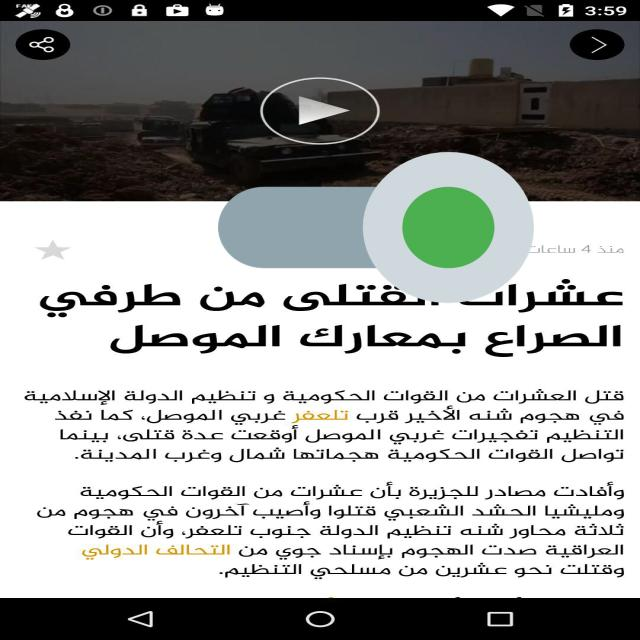social proof: (218, 88, 534, 367)
